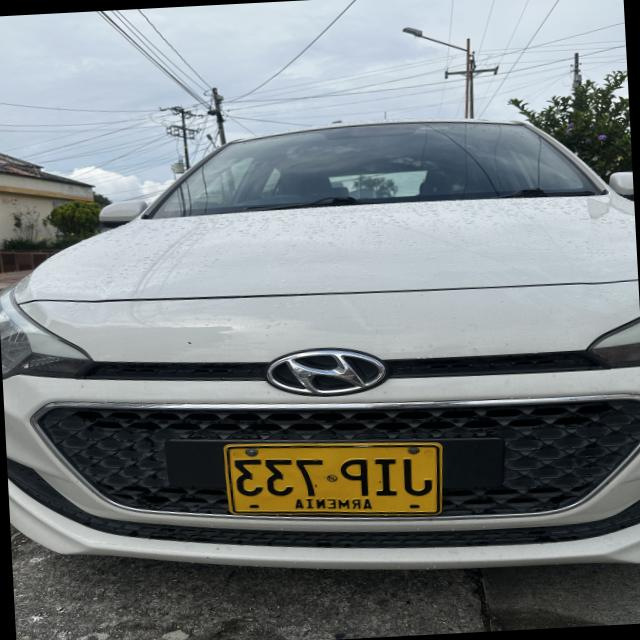number plate: (225, 442, 442, 515)
